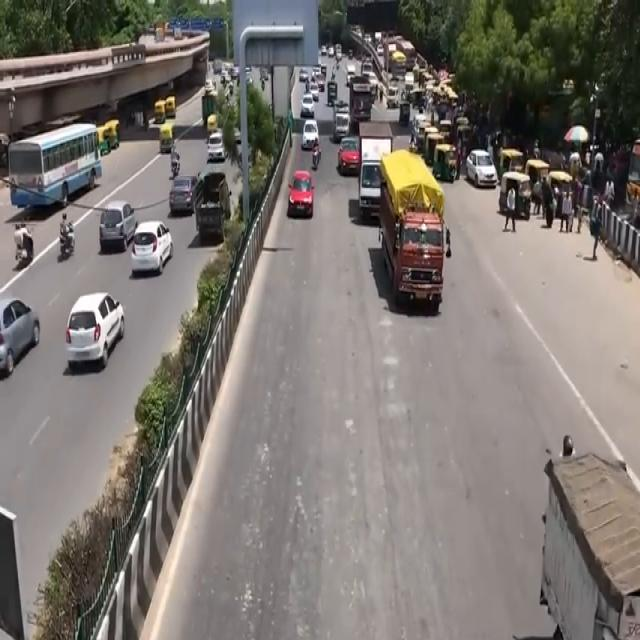BUS: (10, 121, 106, 209)
TRUCK: (541, 455, 639, 640), (379, 153, 450, 317)
